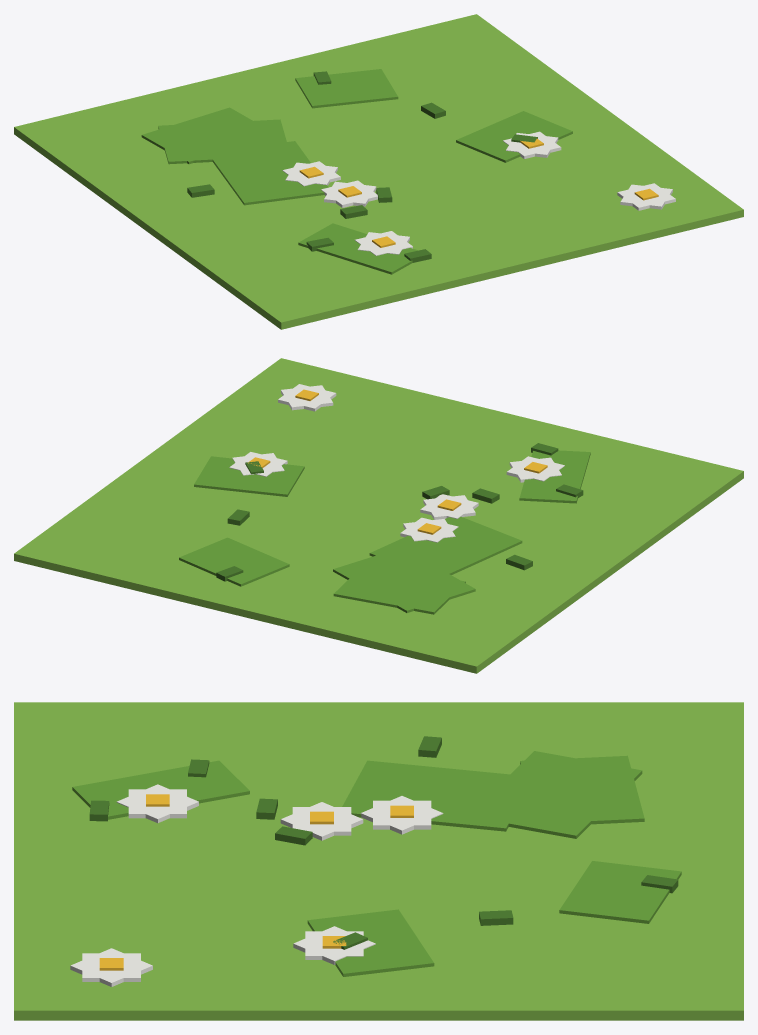
The model's file is L_MedTileGrass.fbx.
The picture shows the model from 3 angles, top to bottom: view 1: azimuth 30°, elevation 25°; view 2: azimuth 150°, elevation 25°; view 3: azimuth 270°, elevation 25°; orthographic projection. The views are drawn at different scales.
Visible parts, largest first — view 1: M_TileGrass; view 2: M_TileGrass; view 3: M_TileGrass.
Part boxes in pixels (x1=…): M_TileGrass: x1=14, y1=14, x2=743, y2=329; M_TileGrass: x1=14, y1=358, x2=743, y2=673; M_TileGrass: x1=14, y1=702, x2=743, y2=1020.
Bounding box in the file's own units: 4 × 0.1 × 4.
Materials: 1 (1 with a texture image).
